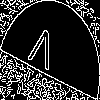V: (25, 25, 57, 79)
